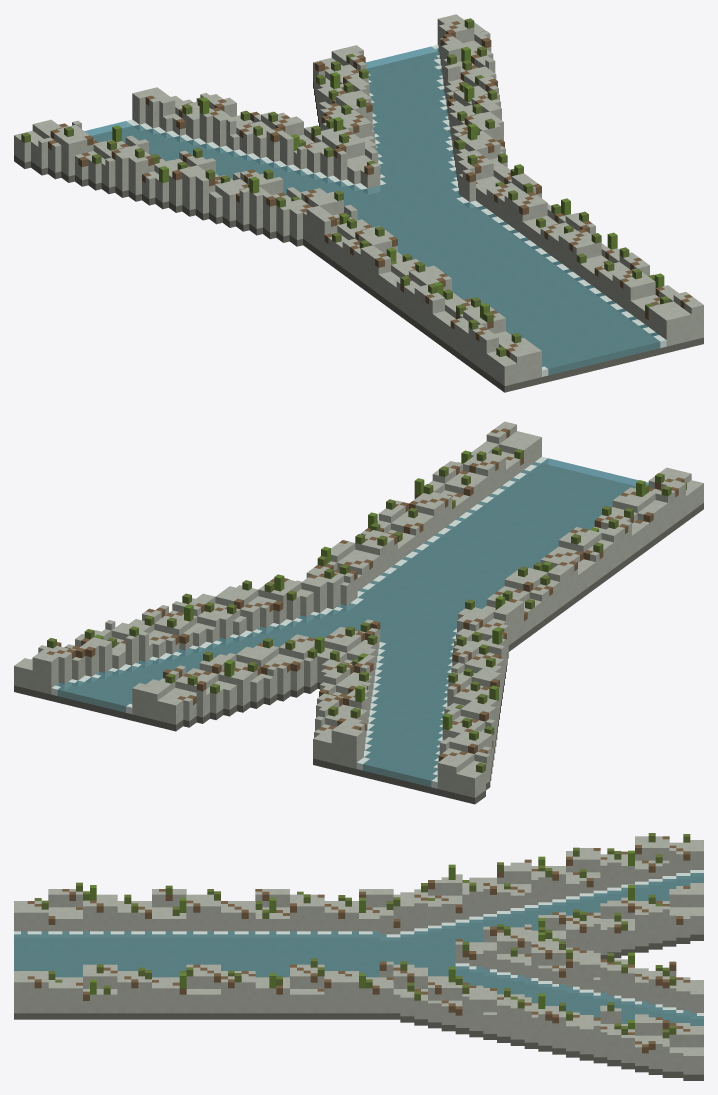
3 views of the same model, one above another, from view 1: azimuth 30°, elevation 25°; view 2: azimuth 150°, elevation 25°; view 3: azimuth 270°, elevation 25° (orthographic). The views are drawn at different scales.
Parts seen in each view (by area): view 1: 支流汇口与河弯组件; view 2: 支流汇口与河弯组件; view 3: 支流汇口与河弯组件.
Part boxes in pixels (box(x1,y1,x2,y2)): 支流汇口与河弯组件: box(14, 14, 703, 392); 支流汇口与河弯组件: box(14, 421, 703, 804); 支流汇口与河弯组件: box(14, 833, 703, 1080).
Size of the model in its own units: 14.8 by 1.6 by 20.
Materials: 7 (5 with a texture image).
